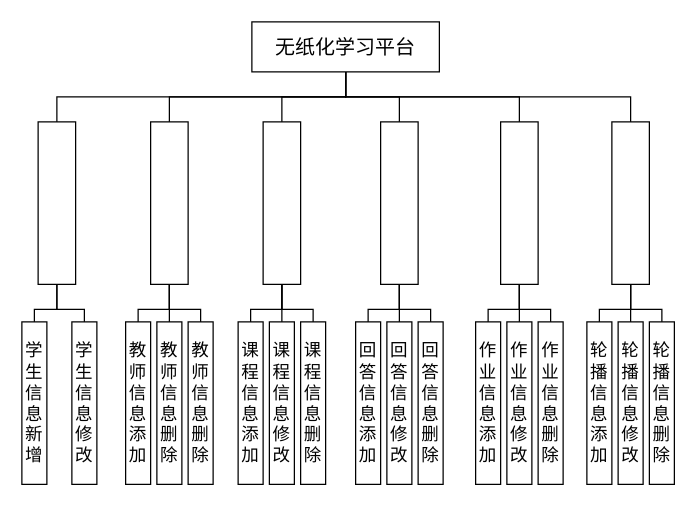
Some shapes in this 696 by 506 pixel diagram are drawn without their labels. Each missing label, with the box of its shape:
作业信息管理: (499, 121, 538, 284)
回答信息管理: (379, 121, 418, 284)
学生信息管理: (37, 121, 76, 284)
教师信息管理: (149, 121, 188, 284)
课程信息管理: (262, 121, 301, 284)
轮播信息管理: (611, 121, 649, 284)
